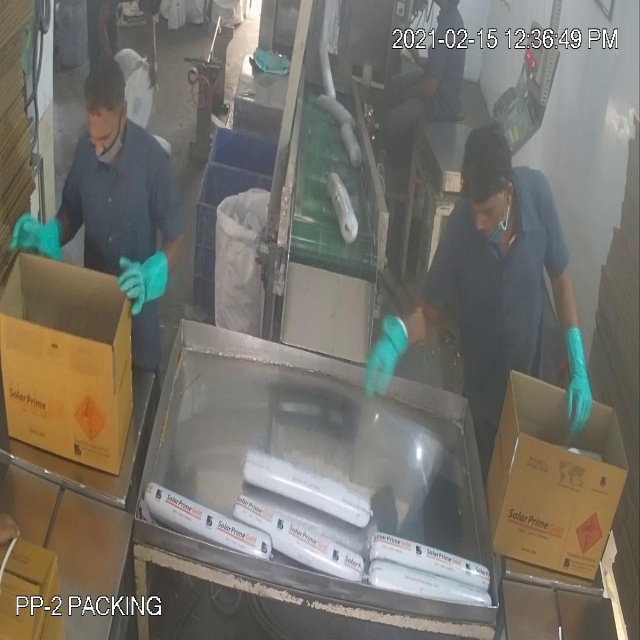Guantes: (545, 301, 598, 457), (356, 292, 421, 417), (5, 198, 74, 282), (111, 231, 174, 321)
Sin_guantes: (390, 65, 441, 104), (92, 3, 122, 67), (143, 9, 162, 95)
